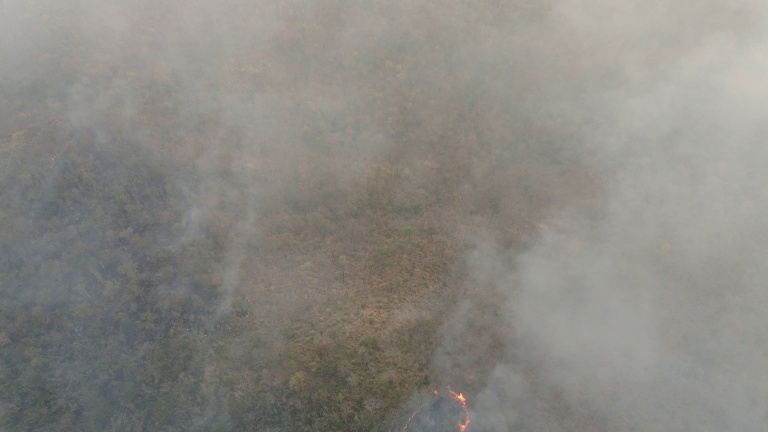fire: (400, 380, 473, 432)
smoke: (419, 2, 768, 432), (3, 1, 411, 240)
